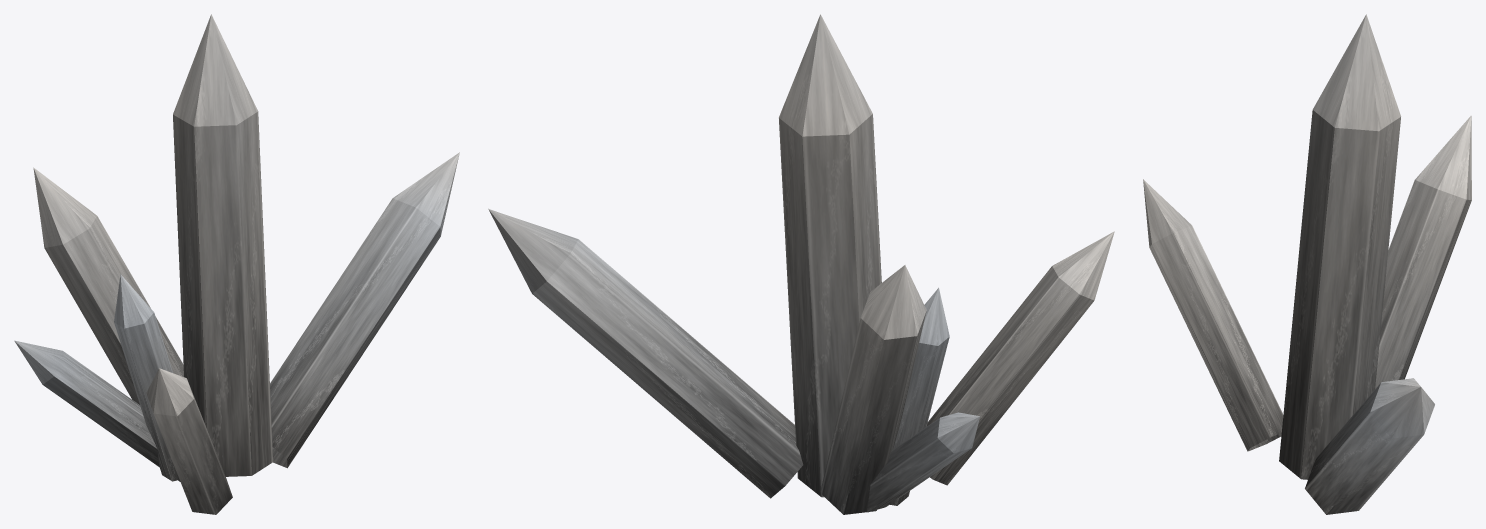
The model's file is crystal_big_l1.gltf.
3 renders of one model, left to right at view 1: azimuth 30°, elevation 25°; view 2: azimuth 150°, elevation 25°; view 3: azimuth 270°, elevation 25°, orthographic. The views are drawn at different scales.
Visible parts, largest first — view 1: crystal_big_l1; view 2: crystal_big_l1; view 3: crystal_big_l1.
Part boxes in pixels (x1,y1,x2,y2): crystal_big_l1: (14, 14, 459, 514); crystal_big_l1: (488, 14, 1114, 514); crystal_big_l1: (1143, 14, 1471, 514).
Size of the model in its own units: 4.82 by 4.69 by 2.96.
Materials: 1 (1 with a texture image).
